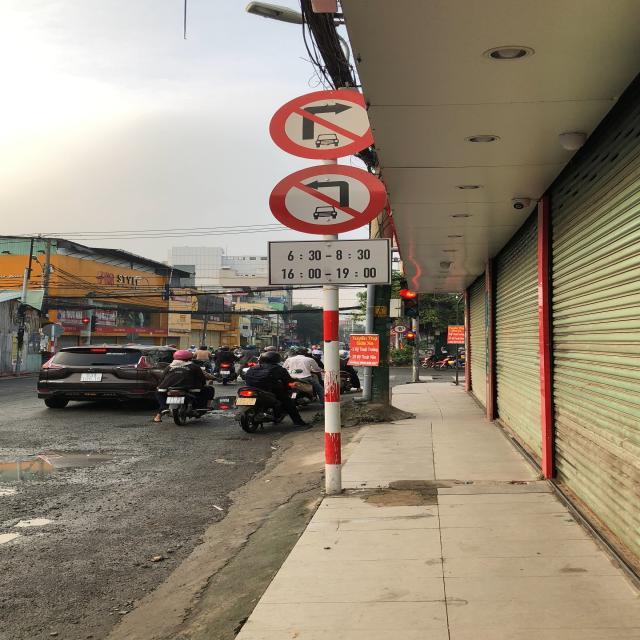Bien bao cam xe o to re phai: (263, 84, 394, 161)
Bien bao cam xe o to re trai: (263, 162, 399, 239)
